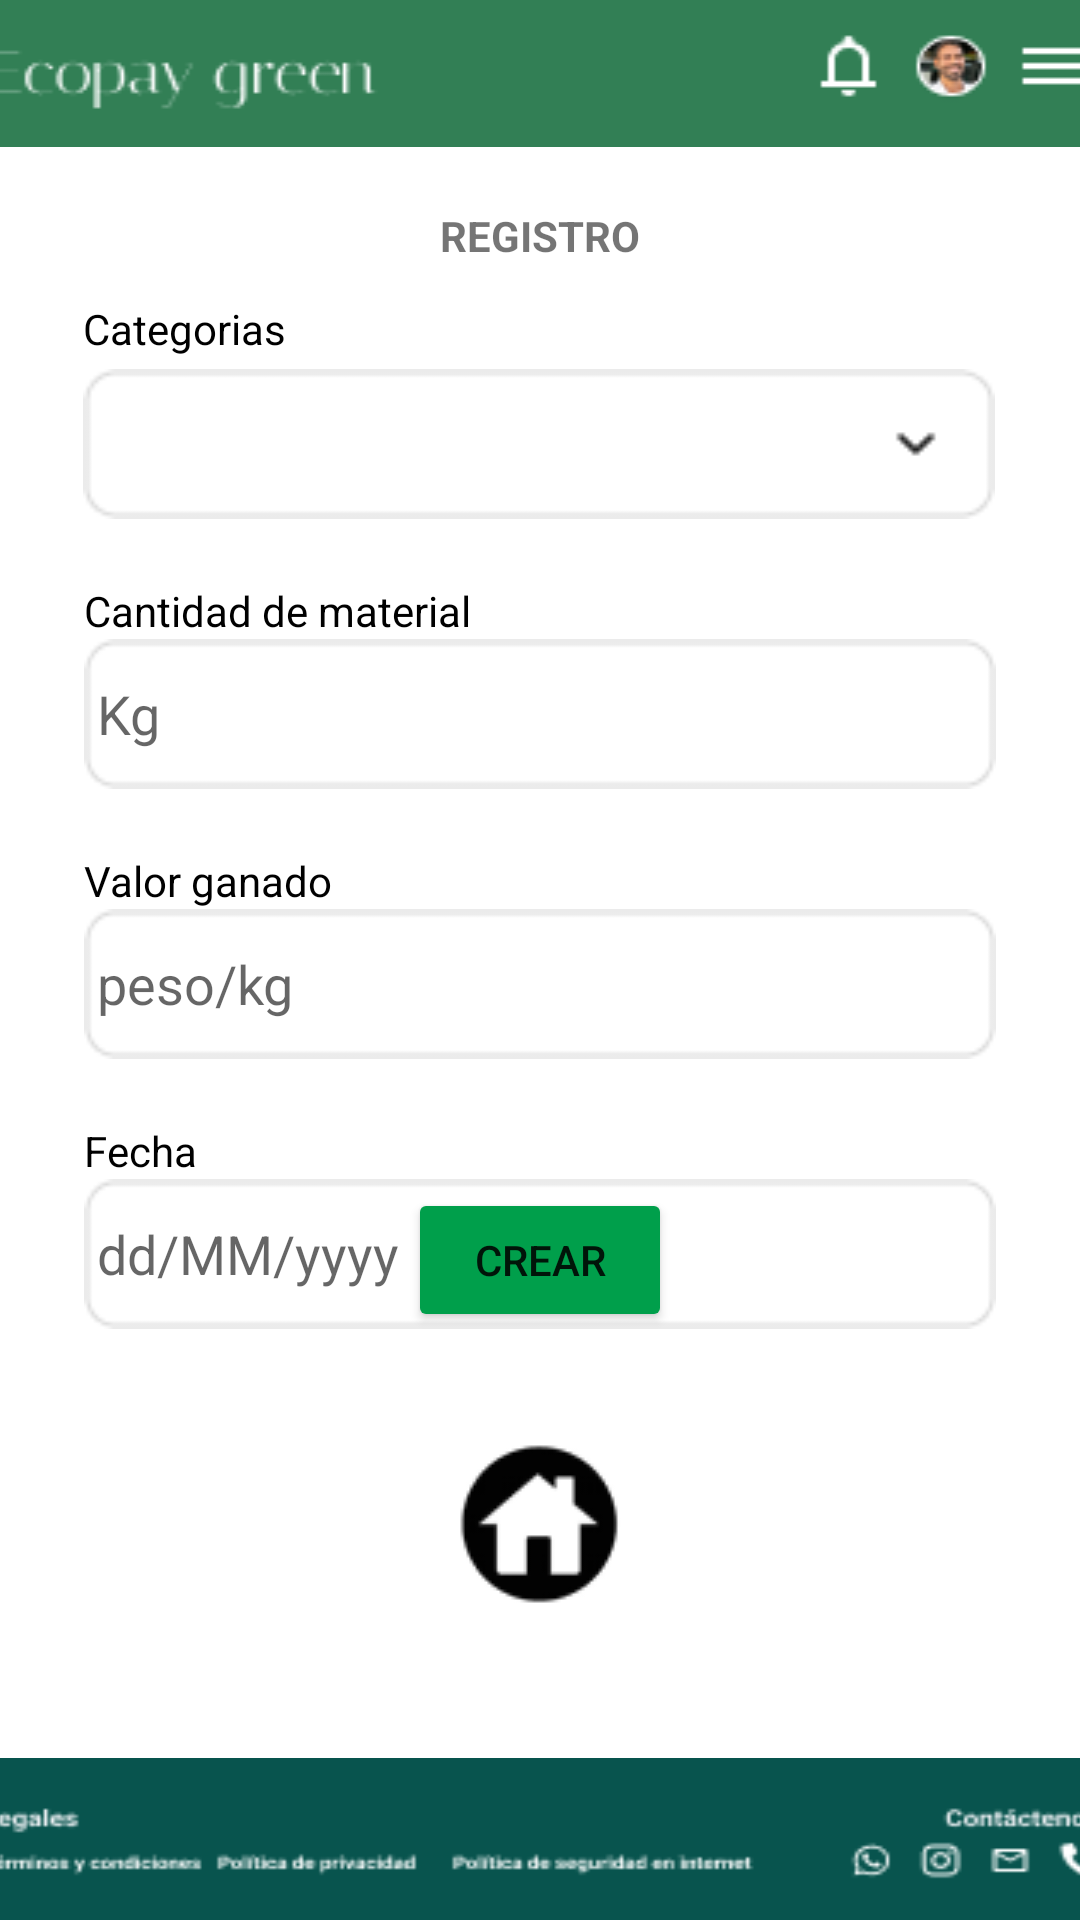

Screen size 1080px×1920px. Icon name, then its center in pixels as (x=x, y=y):
homes: (x=539, y=1524)
